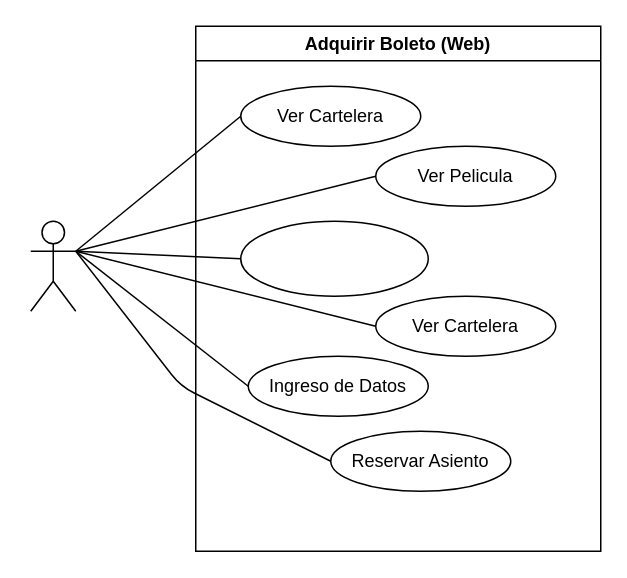
This 627x578 diagram has some shape labels left out. Here are the shapes that lost their labels. From the top down, the centre of each, then its label:
point 52,265: Cliente
point 333,258: Consulta de sala y horarios
